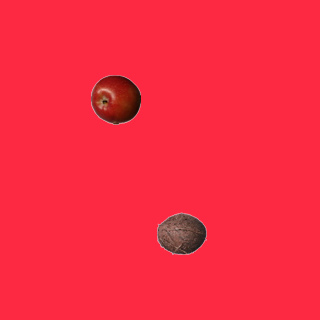Apple Braeburn: (90, 74, 140, 124)
Cocos: (156, 208, 206, 258)
